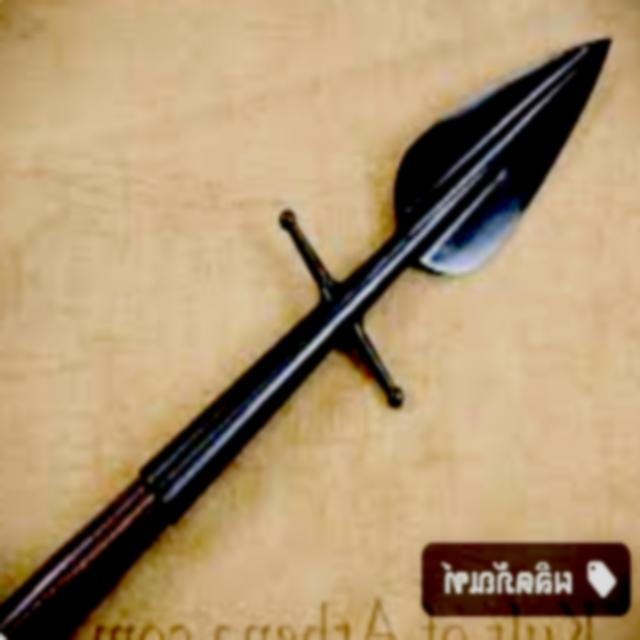spear: (33, 31, 618, 534)
